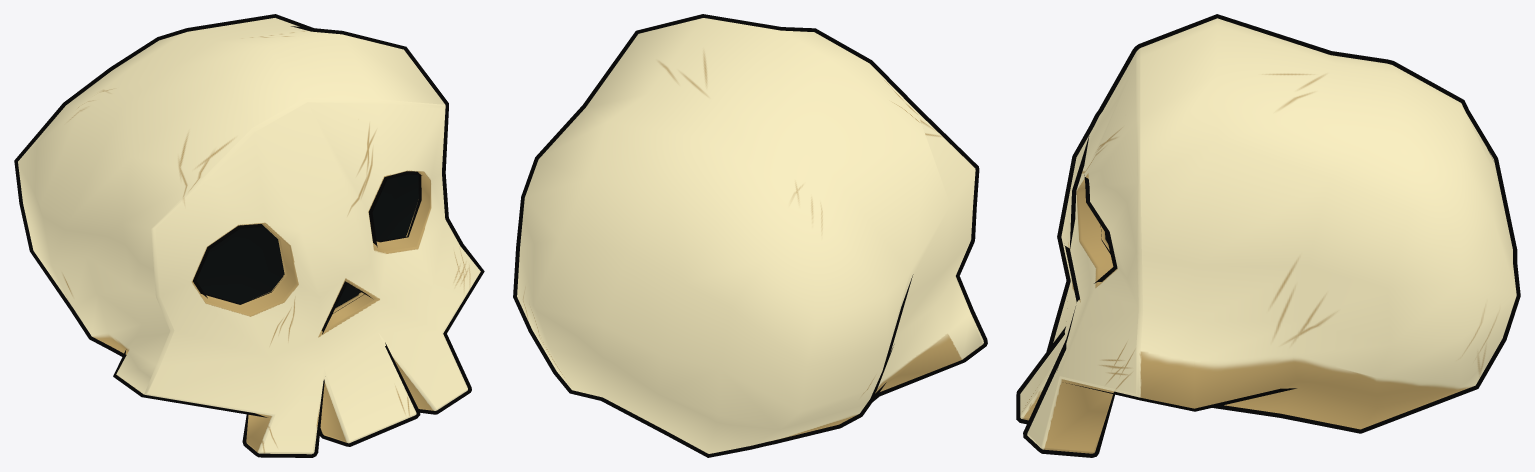
Rendered from lowpoly_cartoon_skull.glb.
The picture shows the model from 3 angles, left to right: view 1: azimuth 30°, elevation 25°; view 2: azimuth 150°, elevation 25°; view 3: azimuth 270°, elevation 25°; orthographic projection. The views are drawn at different scales.
Parts seen in each view (by area): view 1: Plane.009; view 2: Plane.009; view 3: Plane.009.
Boxes of the visible parts, x1,y1,x2,y2 form: Plane.009: (14,14,484,457); Plane.009: (513,14,987,457); Plane.009: (1016,14,1520,457).
Bounding box in the file's own units: 2.1 × 2.04 × 2.34.
Materials: 2 (1 with a texture image).
